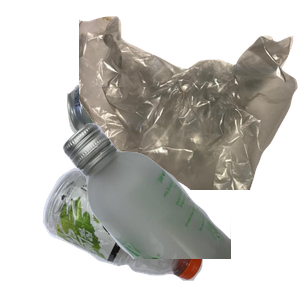glass: (60, 120, 300, 300)
metal: (65, 65, 231, 192)
plastic: (40, 165, 235, 300)
trash: (79, 14, 300, 194)
